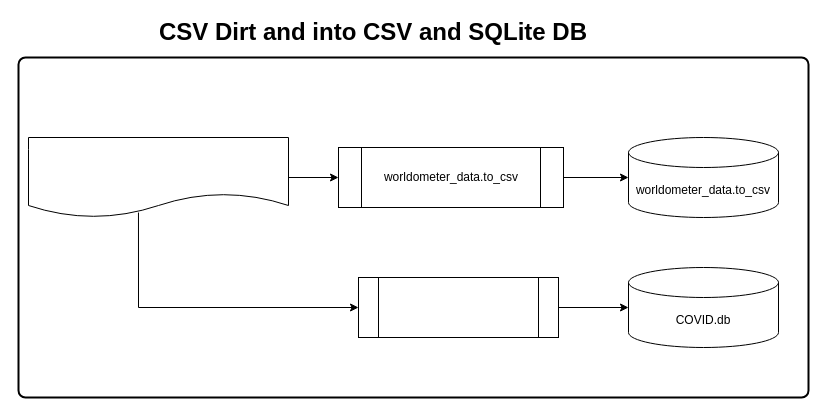
Some shapes in this 826 by 415 pixel diagram are drawn without their labels. Here are the shapes that lost their labels. From the top down, the centre of each, then its label:
At point 158,177: "worldometer_data_2024_03_30.csv".
At point 458,307: "worldometer_data.to_sql".
